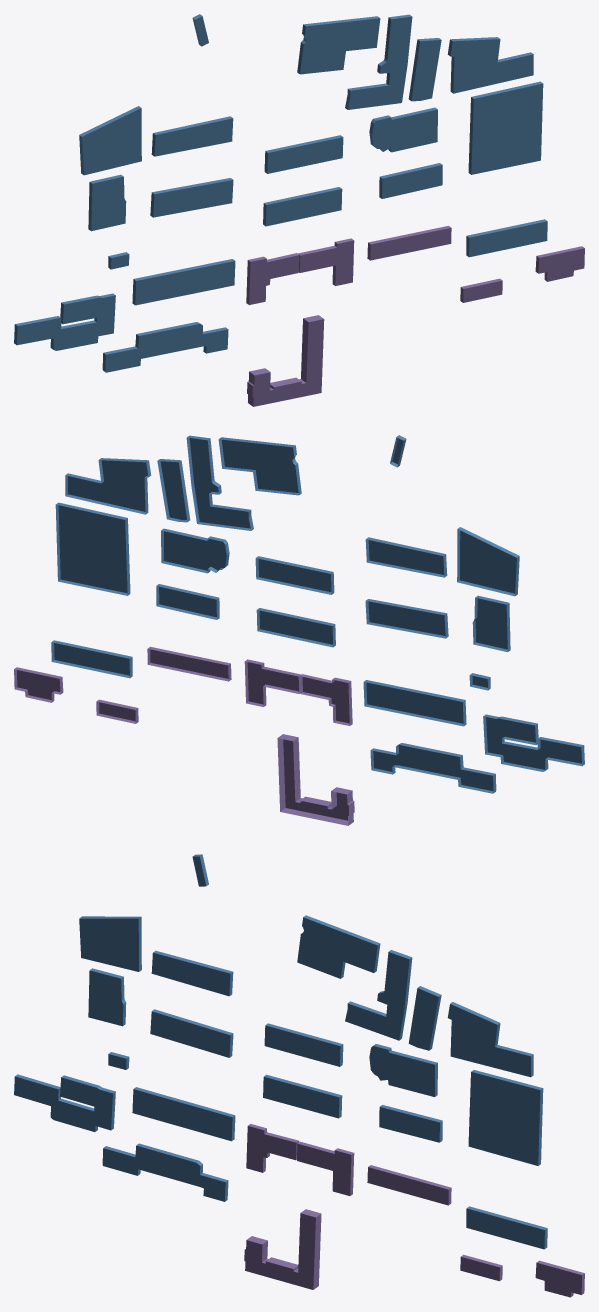
File: buildings_k20.obj
3 renders of one model, top to bottom at view 1: azimuth 30°, elevation 25°; view 2: azimuth 150°, elevation 25°; view 3: azimuth 330°, elevation 25°, orthographic.
Parts seen in each view (by area): view 1: roof4, roof5, zone4, zone5; view 2: roof4, zone4, roof5, zone5; view 3: roof4, roof5, zone4, zone5.
Boxes of the visible parts, box(x1,y1,x2,y2) form: roof4: box(17, 16, 547, 372); roof5: box(249, 228, 584, 406); zone4: box(14, 14, 547, 372); zone5: box(246, 225, 584, 406); roof4: box(54, 438, 581, 791); zone4: box(51, 435, 584, 793); roof5: box(17, 649, 349, 820); zone5: box(14, 646, 354, 825); roof4: box(14, 856, 544, 1249); roof5: box(244, 1126, 581, 1297); zone4: box(15, 854, 547, 1249); zone5: box(245, 1124, 584, 1296).
Bounding box in the file's own units: 503 × 341 × 8.5.
